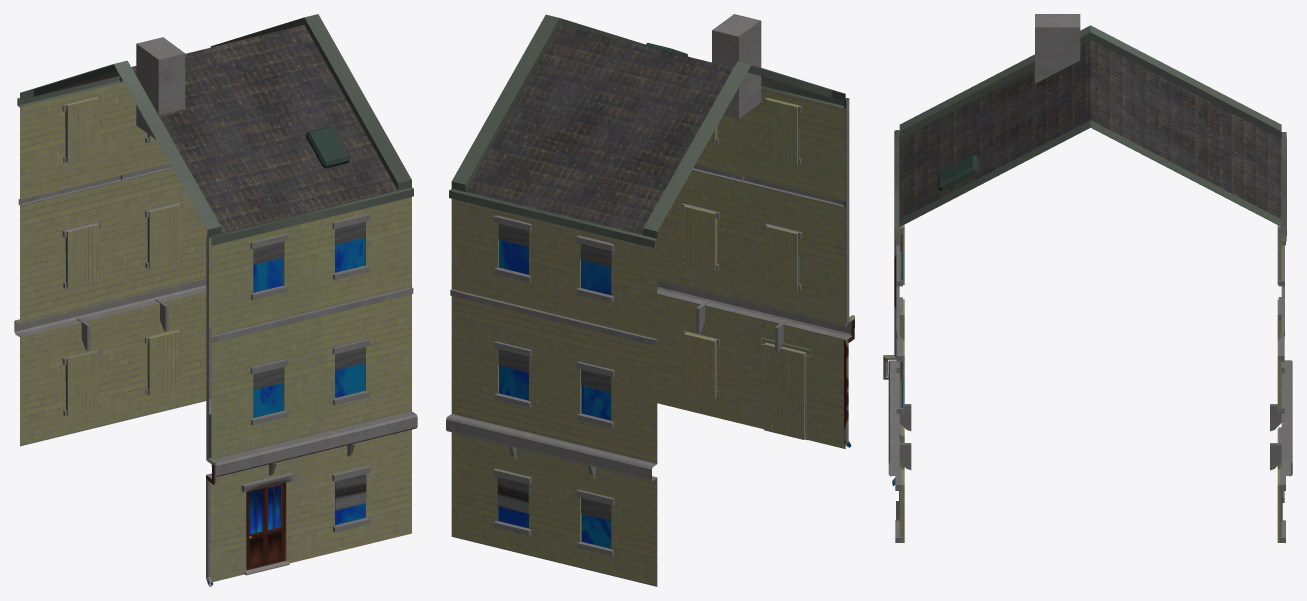
The model's file is middle_house.gltf.
3 views of the same model, side by side, from view 1: azimuth 30°, elevation 25°; view 2: azimuth 150°, elevation 25°; view 3: azimuth 270°, elevation 25° (orthographic).
Parts seen in each view (by area): view 1: middle_house.002; view 2: middle_house.002; view 3: middle_house.002.
Boxes of the visible parts, box(x1,y1,x2,y2) form: middle_house.002: box(14, 14, 417, 586); middle_house.002: box(446, 14, 854, 586); middle_house.002: box(883, 14, 1292, 542).
Size of the model in its own units: 5.3 by 11.54 by 8.91.
1 material, 1 textured.
